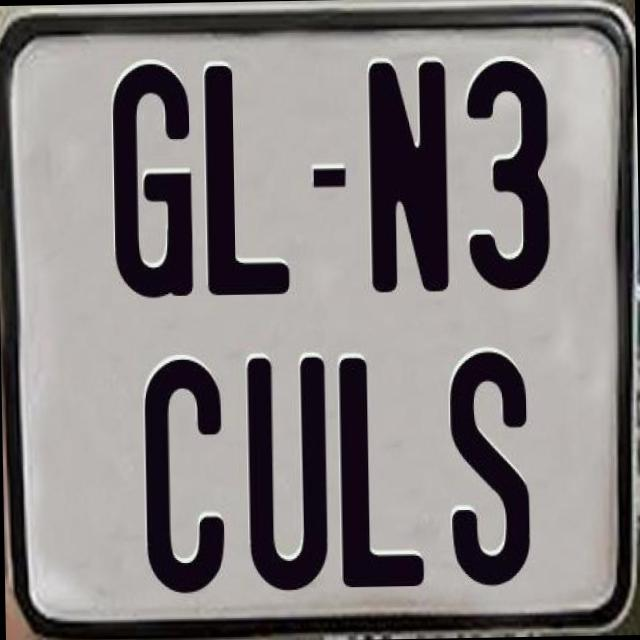3: (463, 56, 549, 288)
C: (142, 359, 228, 600)
G: (110, 62, 196, 298)
L: (200, 60, 290, 293), (336, 354, 424, 584)
N: (364, 60, 451, 292)
S: (447, 345, 535, 591)
U: (247, 357, 331, 601)
